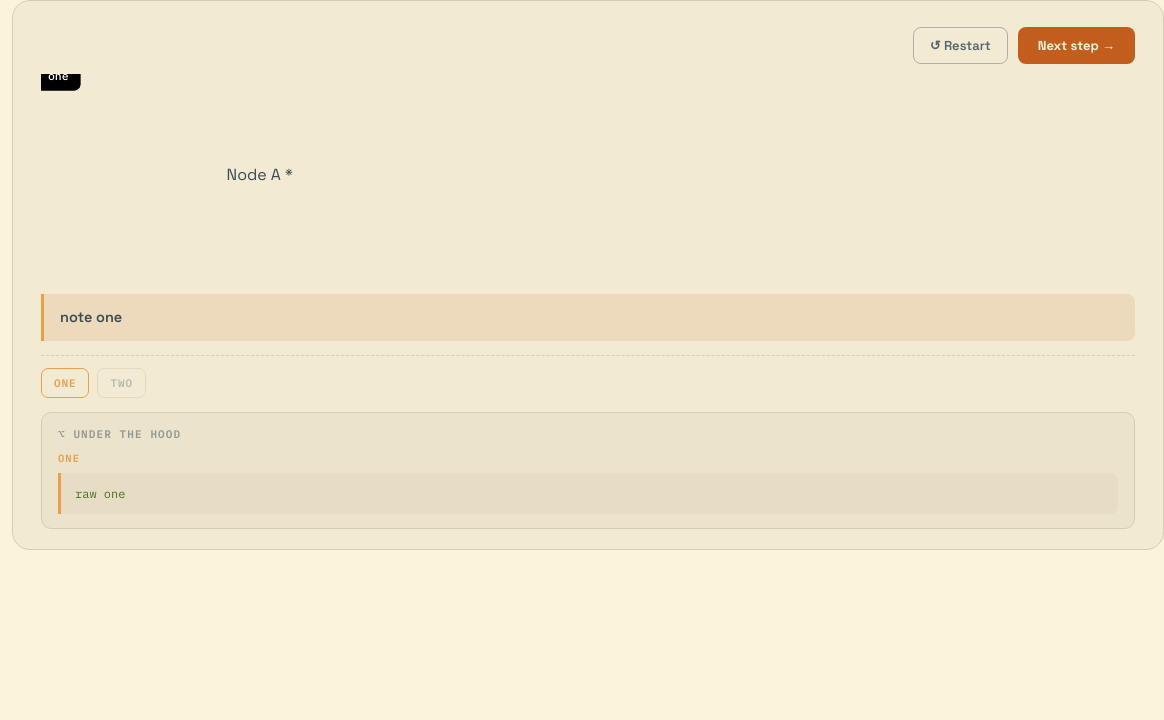
Scenario: FlowDiagram › jumps to a step via its phase marker
Click the button "two". click: (122, 383)
box: [98,368,146,398]
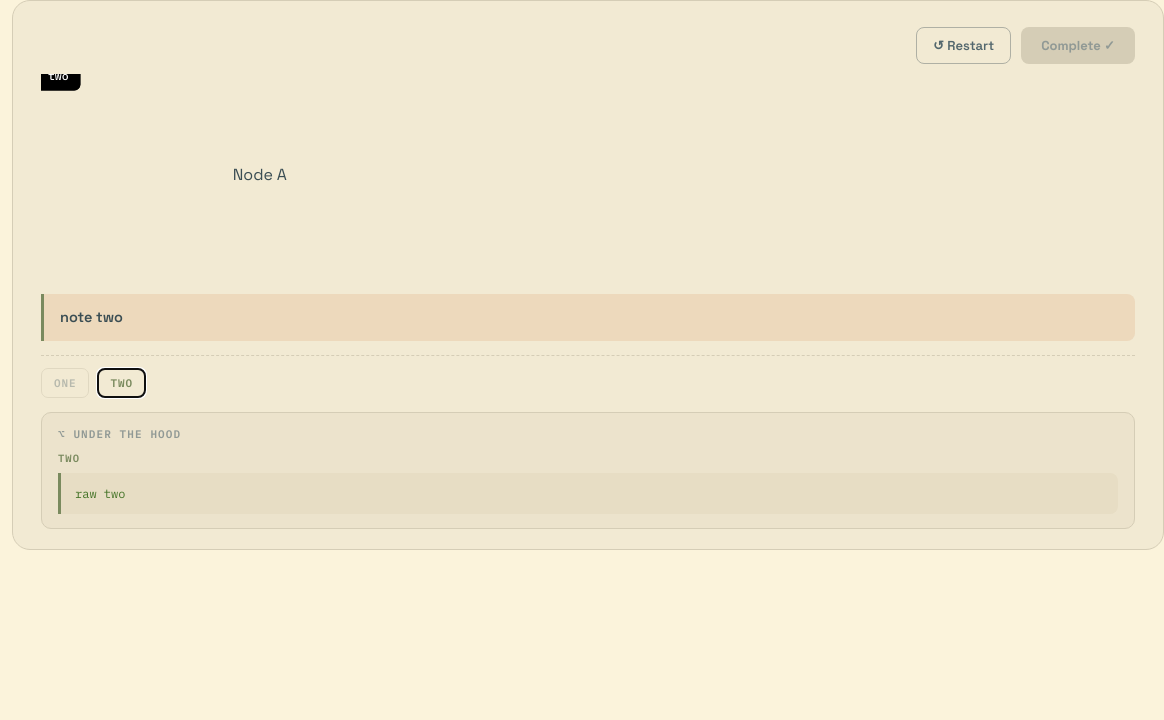
Check: the text "note two" is shown, box [41,294,1135,341]
Click the button "↺ Restart". click: (964, 46)
box: [916,27,1011,64]
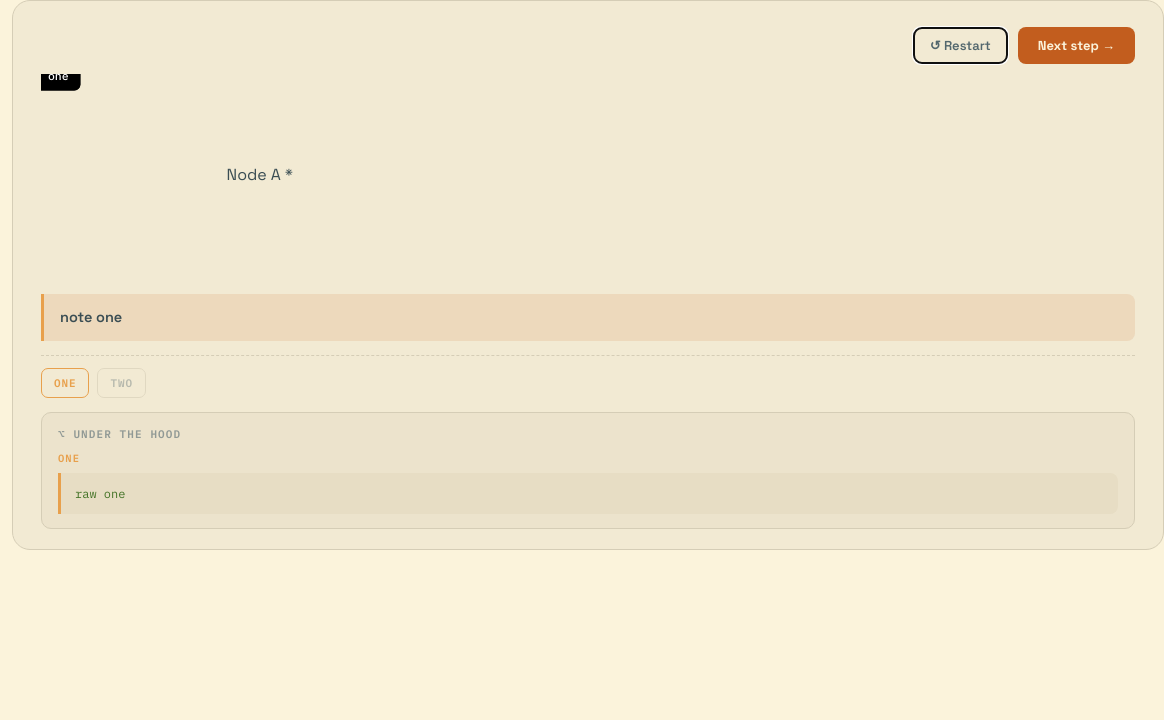
Check: the text "note one" is shown, box [41,294,1135,341]
